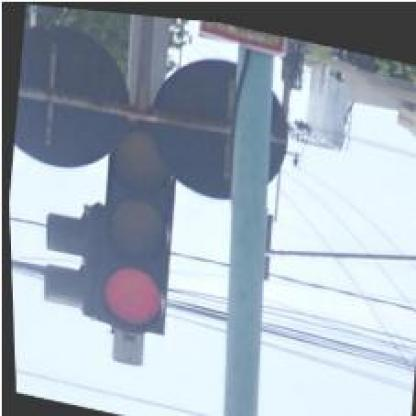red: (87, 113, 184, 334)
